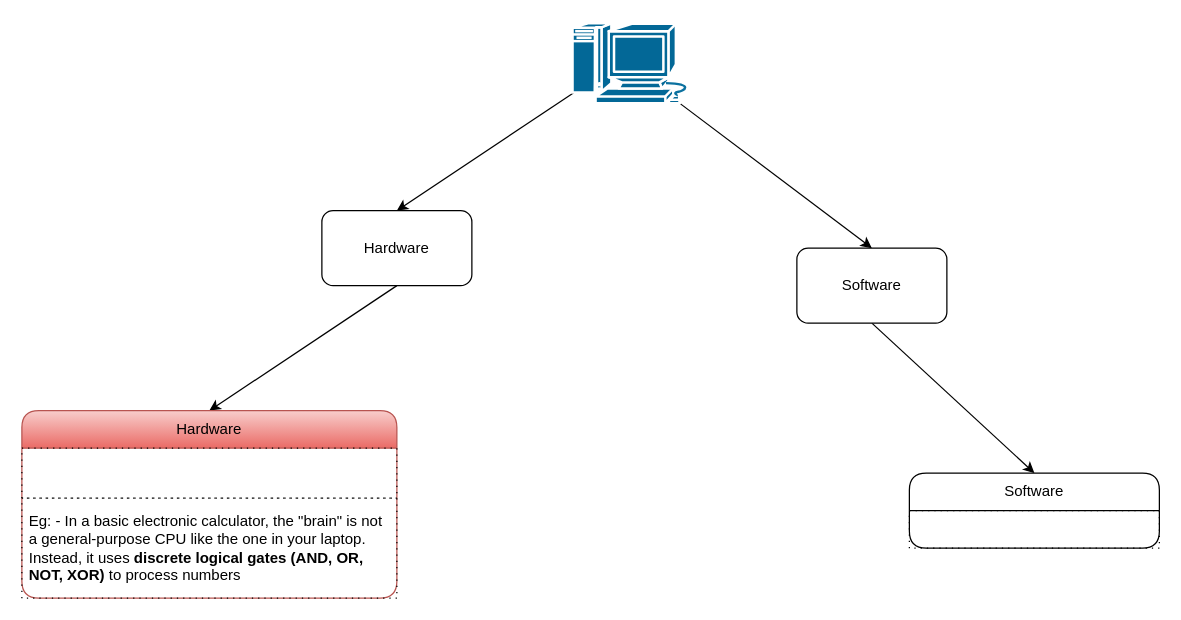
Image size: 1181x620. Some labels were removed from this diagram. Here are the shapes that lost their labels. From the top down, the centre of each, then its label:
At point (209, 472): "Hardware can run without software also using hard wired circutry".
At point (1033, 528): "Completely coded".
